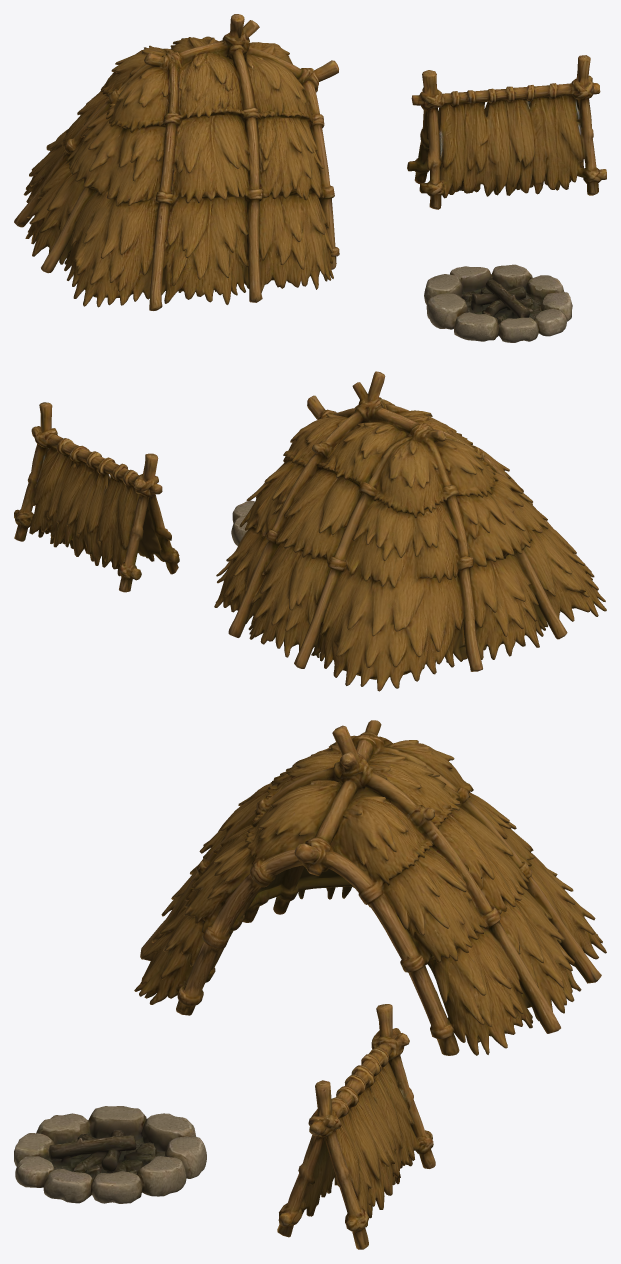
The model's file is Band Camp (East African).fbx.
3 renders of one model, top to bottom at view 1: azimuth 30°, elevation 25°; view 2: azimuth 150°, elevation 25°; view 3: azimuth 270°, elevation 25°, orthographic. The views are drawn at different scales.
Parts seen in each view (by area): view 1: tripo_part_0, tripo_part_1, tripo_part_2; view 2: tripo_part_0, tripo_part_1, tripo_part_2; view 3: tripo_part_0, tripo_part_1, tripo_part_2.
Part boxes in pixels (bbox=[...]): tripo_part_0: bbox=[14, 14, 339, 310]; tripo_part_1: bbox=[407, 55, 606, 209]; tripo_part_2: bbox=[424, 264, 572, 342]; tripo_part_0: bbox=[214, 371, 606, 691]; tripo_part_1: bbox=[14, 402, 179, 592]; tripo_part_2: bbox=[231, 498, 256, 545]; tripo_part_0: bbox=[134, 720, 606, 1055]; tripo_part_1: bbox=[277, 1004, 435, 1249]; tripo_part_2: bbox=[14, 1106, 206, 1203].
Bounding box in the file's own units: 1 × 0.4713 × 0.7469.
